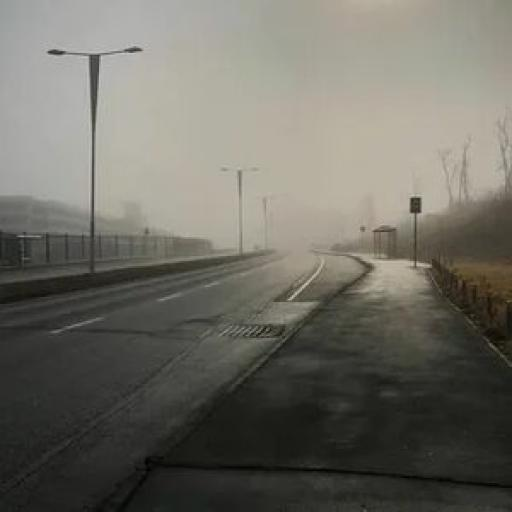Light-pole: (43, 39, 134, 280), (220, 156, 259, 251)
